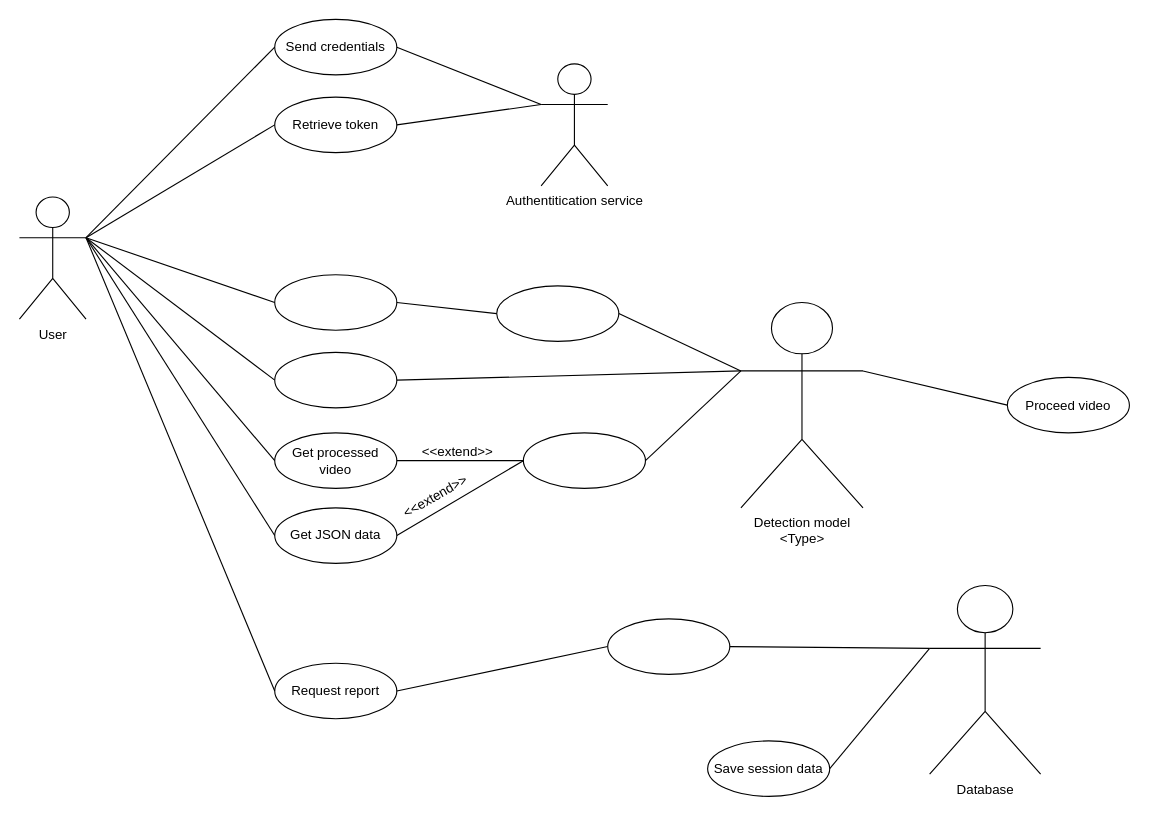
Some shapes in this 1149 by 817 pixel diagram are drawn without their labels. The box of each missing label's shape, as (x1, y1, x2, y2) in pixels:
Create detect ion model: (496, 285, 619, 341)
Send processed data: (522, 432, 645, 488)
Send sess ion data to the user: (607, 618, 730, 674)
Send token: (274, 274, 397, 330)
Send v ideo: (274, 351, 397, 408)
